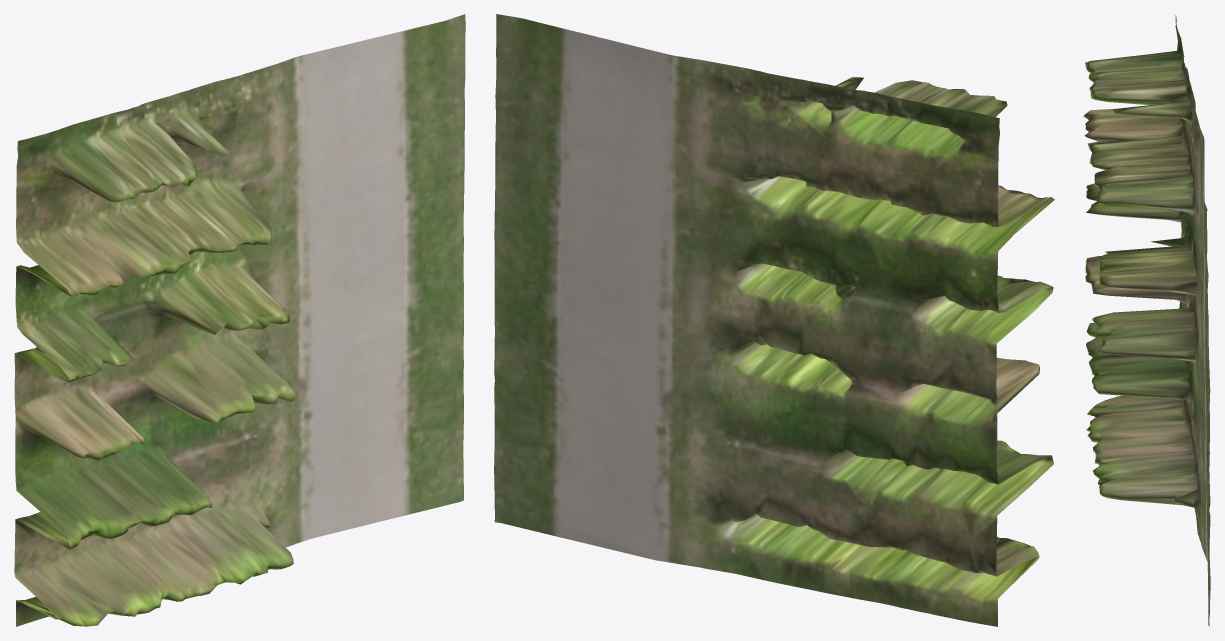
The model's file is map_220_80.obj.
The picture shows the model from 3 angles, left to right: view 1: azimuth 30°, elevation 25°; view 2: azimuth 150°, elevation 25°; view 3: azimuth 270°, elevation 25°; orthographic projection. The views are drawn at different scales.
Parts seen in each view (by area): view 1: map_220_80.obj; view 2: map_220_80.obj; view 3: map_220_80.obj.
Boxes of the visible parts, <box> form: map_220_80.obj: <box>14,14,465,626</box>; map_220_80.obj: <box>494,14,1054,626</box>; map_220_80.obj: <box>1083,15,1210,626</box>.
Size of the model in its own units: 10 by 10 by 2.77.
Materials: 1 (1 with a texture image).
